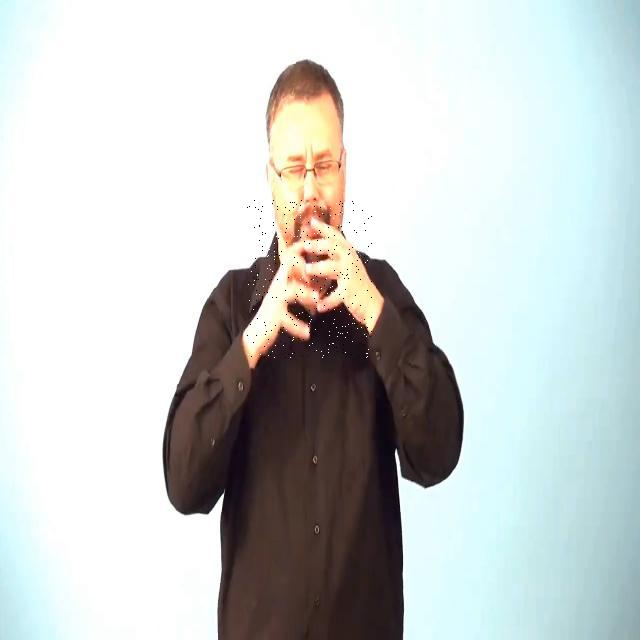juicy: (247, 200, 372, 358)
